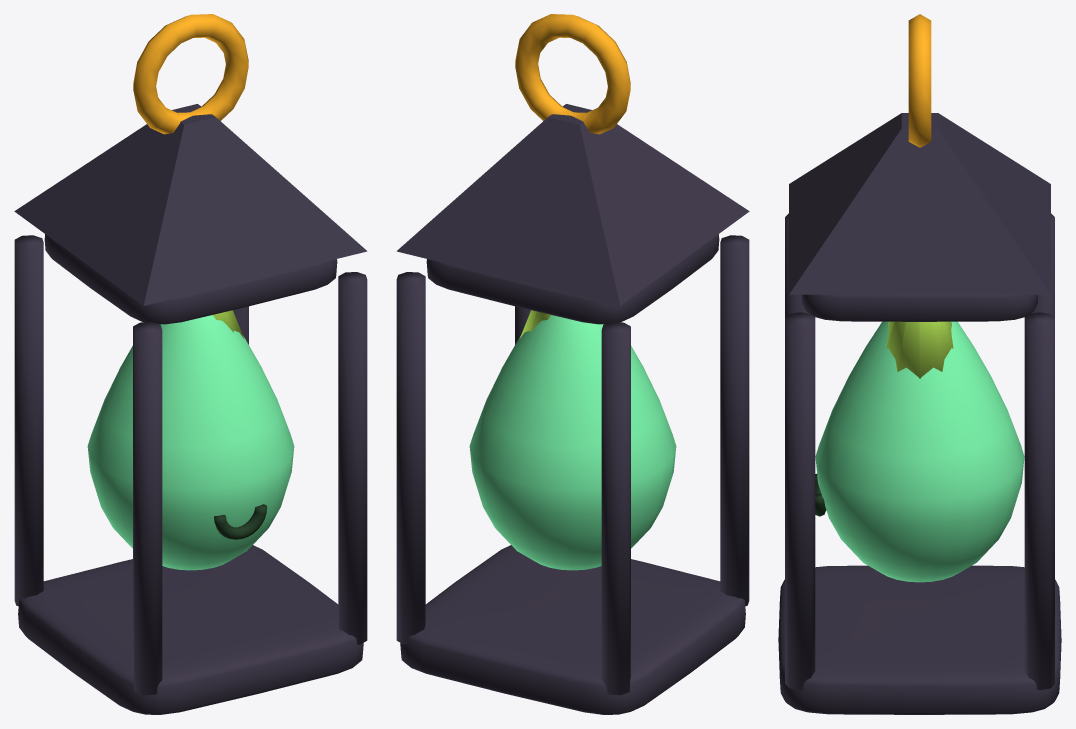
File: H12_LanternLurker.fbx
3 renders of one model, left to right at view 1: azimuth 30°, elevation 25°; view 2: azimuth 150°, elevation 25°; view 3: azimuth 270°, elevation 25°, orthographic.
Parts seen in each view (by area): view 1: H12_LanternLurker__Iron, H12_LanternLurker__Glass, H12_LanternLurker__Ring, H12_LanternLurker__Mouth; view 2: H12_LanternLurker__Iron, H12_LanternLurker__Glass, H12_LanternLurker__Ring; view 3: H12_LanternLurker__Iron, H12_LanternLurker__Glass, H12_LanternLurker__Ring, H12_LanternLurker__Flame.
Part boxes in pixels (x1,y1,x2,y2): H12_LanternLurker__Iron: [14, 104, 367, 714]; H12_LanternLurker__Glass: [87, 315, 294, 570]; H12_LanternLurker__Ring: [133, 14, 248, 134]; H12_LanternLurker__Mouth: [214, 504, 267, 539]; H12_LanternLurker__Iron: [396, 104, 749, 714]; H12_LanternLurker__Glass: [469, 315, 676, 570]; H12_LanternLurker__Ring: [515, 14, 630, 134]; H12_LanternLurker__Iron: [778, 113, 1061, 714]; H12_LanternLurker__Glass: [815, 321, 1024, 582]; H12_LanternLurker__Ring: [908, 14, 931, 147]; H12_LanternLurker__Flame: [886, 321, 953, 378].
Size of the model in its own units: 1.3 by 3.28 by 1.3.
